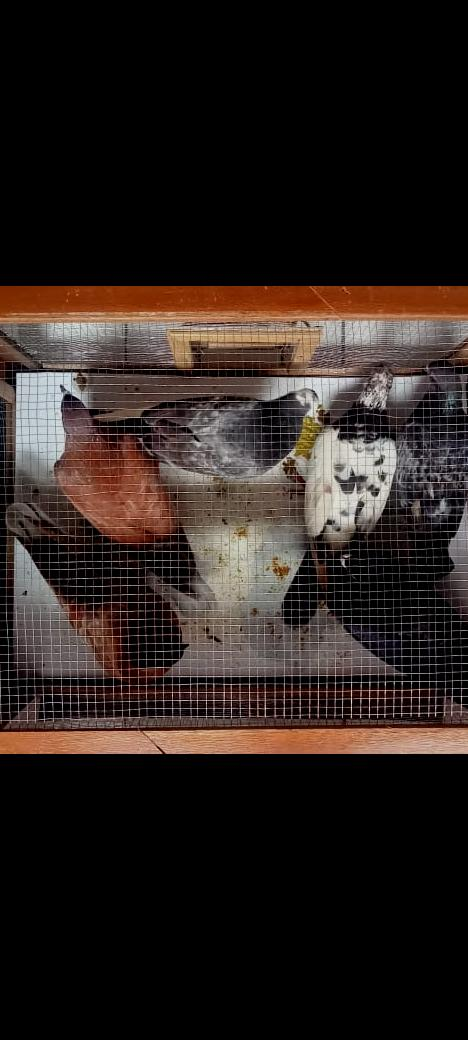Merpati: (52, 384, 216, 620), (5, 499, 189, 686), (281, 365, 395, 628), (88, 387, 317, 479), (326, 548, 468, 689), (396, 359, 468, 581)
